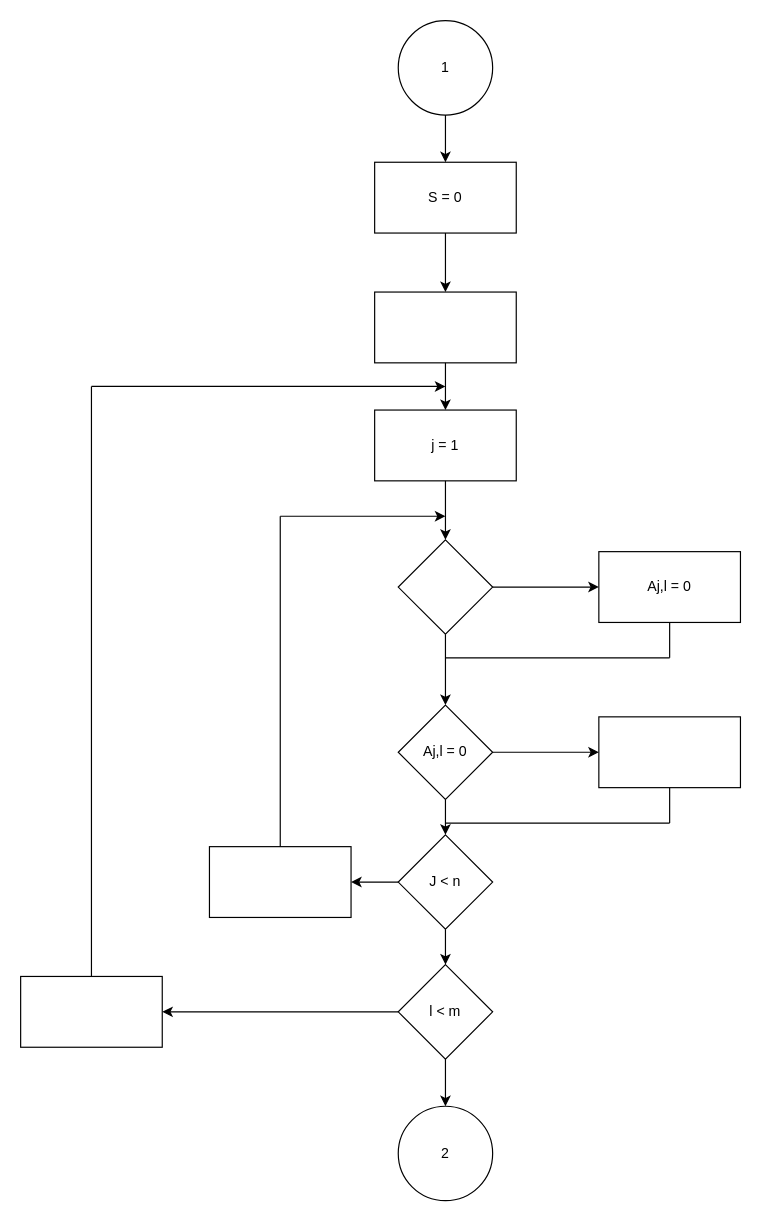
The diagram is 761 pixels wide and 1221 high, and some of its shapes have lost their labels. The centre of each missing label's shape, as x and y in pixels:
"j = l" belongs at point 445,586.
"l = 1" belongs at point 444,327.
"l = l + 1" belongs at point 90,1011.
"S = S + 1" belongs at point 669,752.
